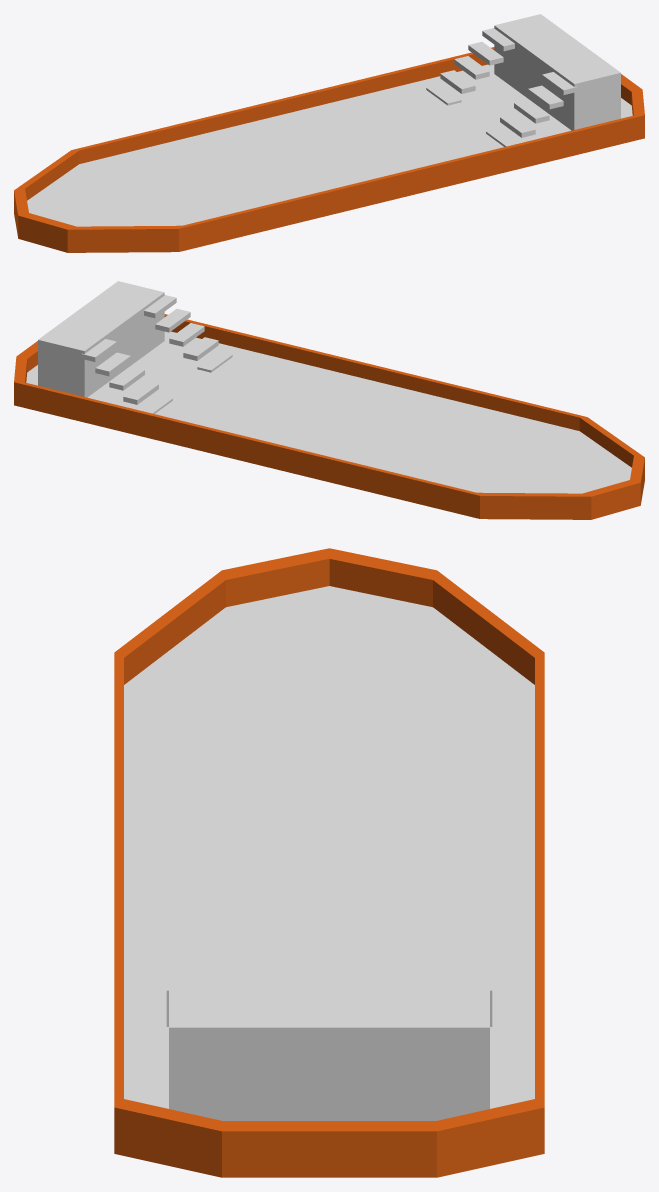
File: Boat.fbx
The picture shows the model from 3 angles, top to bottom: view 1: azimuth 30°, elevation 25°; view 2: azimuth 150°, elevation 25°; view 3: azimuth 270°, elevation 25°; orthographic projection. The views are drawn at different scales.
Visible parts, largest first — view 1: Cube, Cube.001, Cube.002; view 2: Cube, Cube.001, Cube.002; view 3: Cube, Cube.001, Cube.002.
Boxes of the visible parts, x1,y1,x2,y2 form: Cube: (14,47,644,252); Cube.001: (494,14,620,130); Cube.002: (426,28,577,146); Cube: (14,314,644,519); Cube.001: (38,281,164,397); Cube.002: (81,295,232,413); Cube: (114,548,544,1177); Cube.001: (169,982,489,1120); Cube.002: (166,977,492,1026).
Size of the model in its own units: 2564 by 238 by 800.
